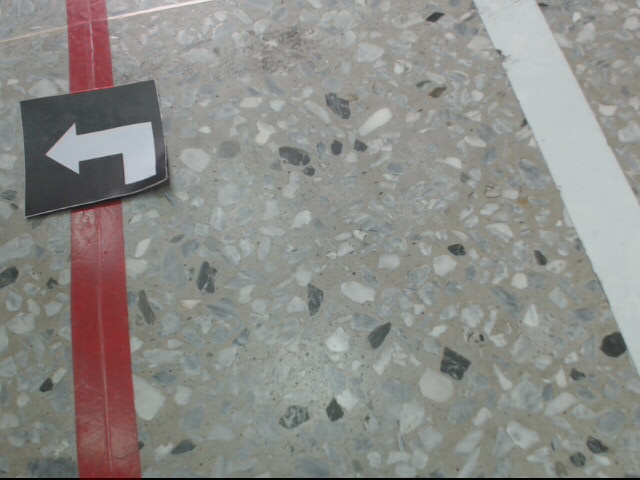left: (18, 78, 173, 222)
